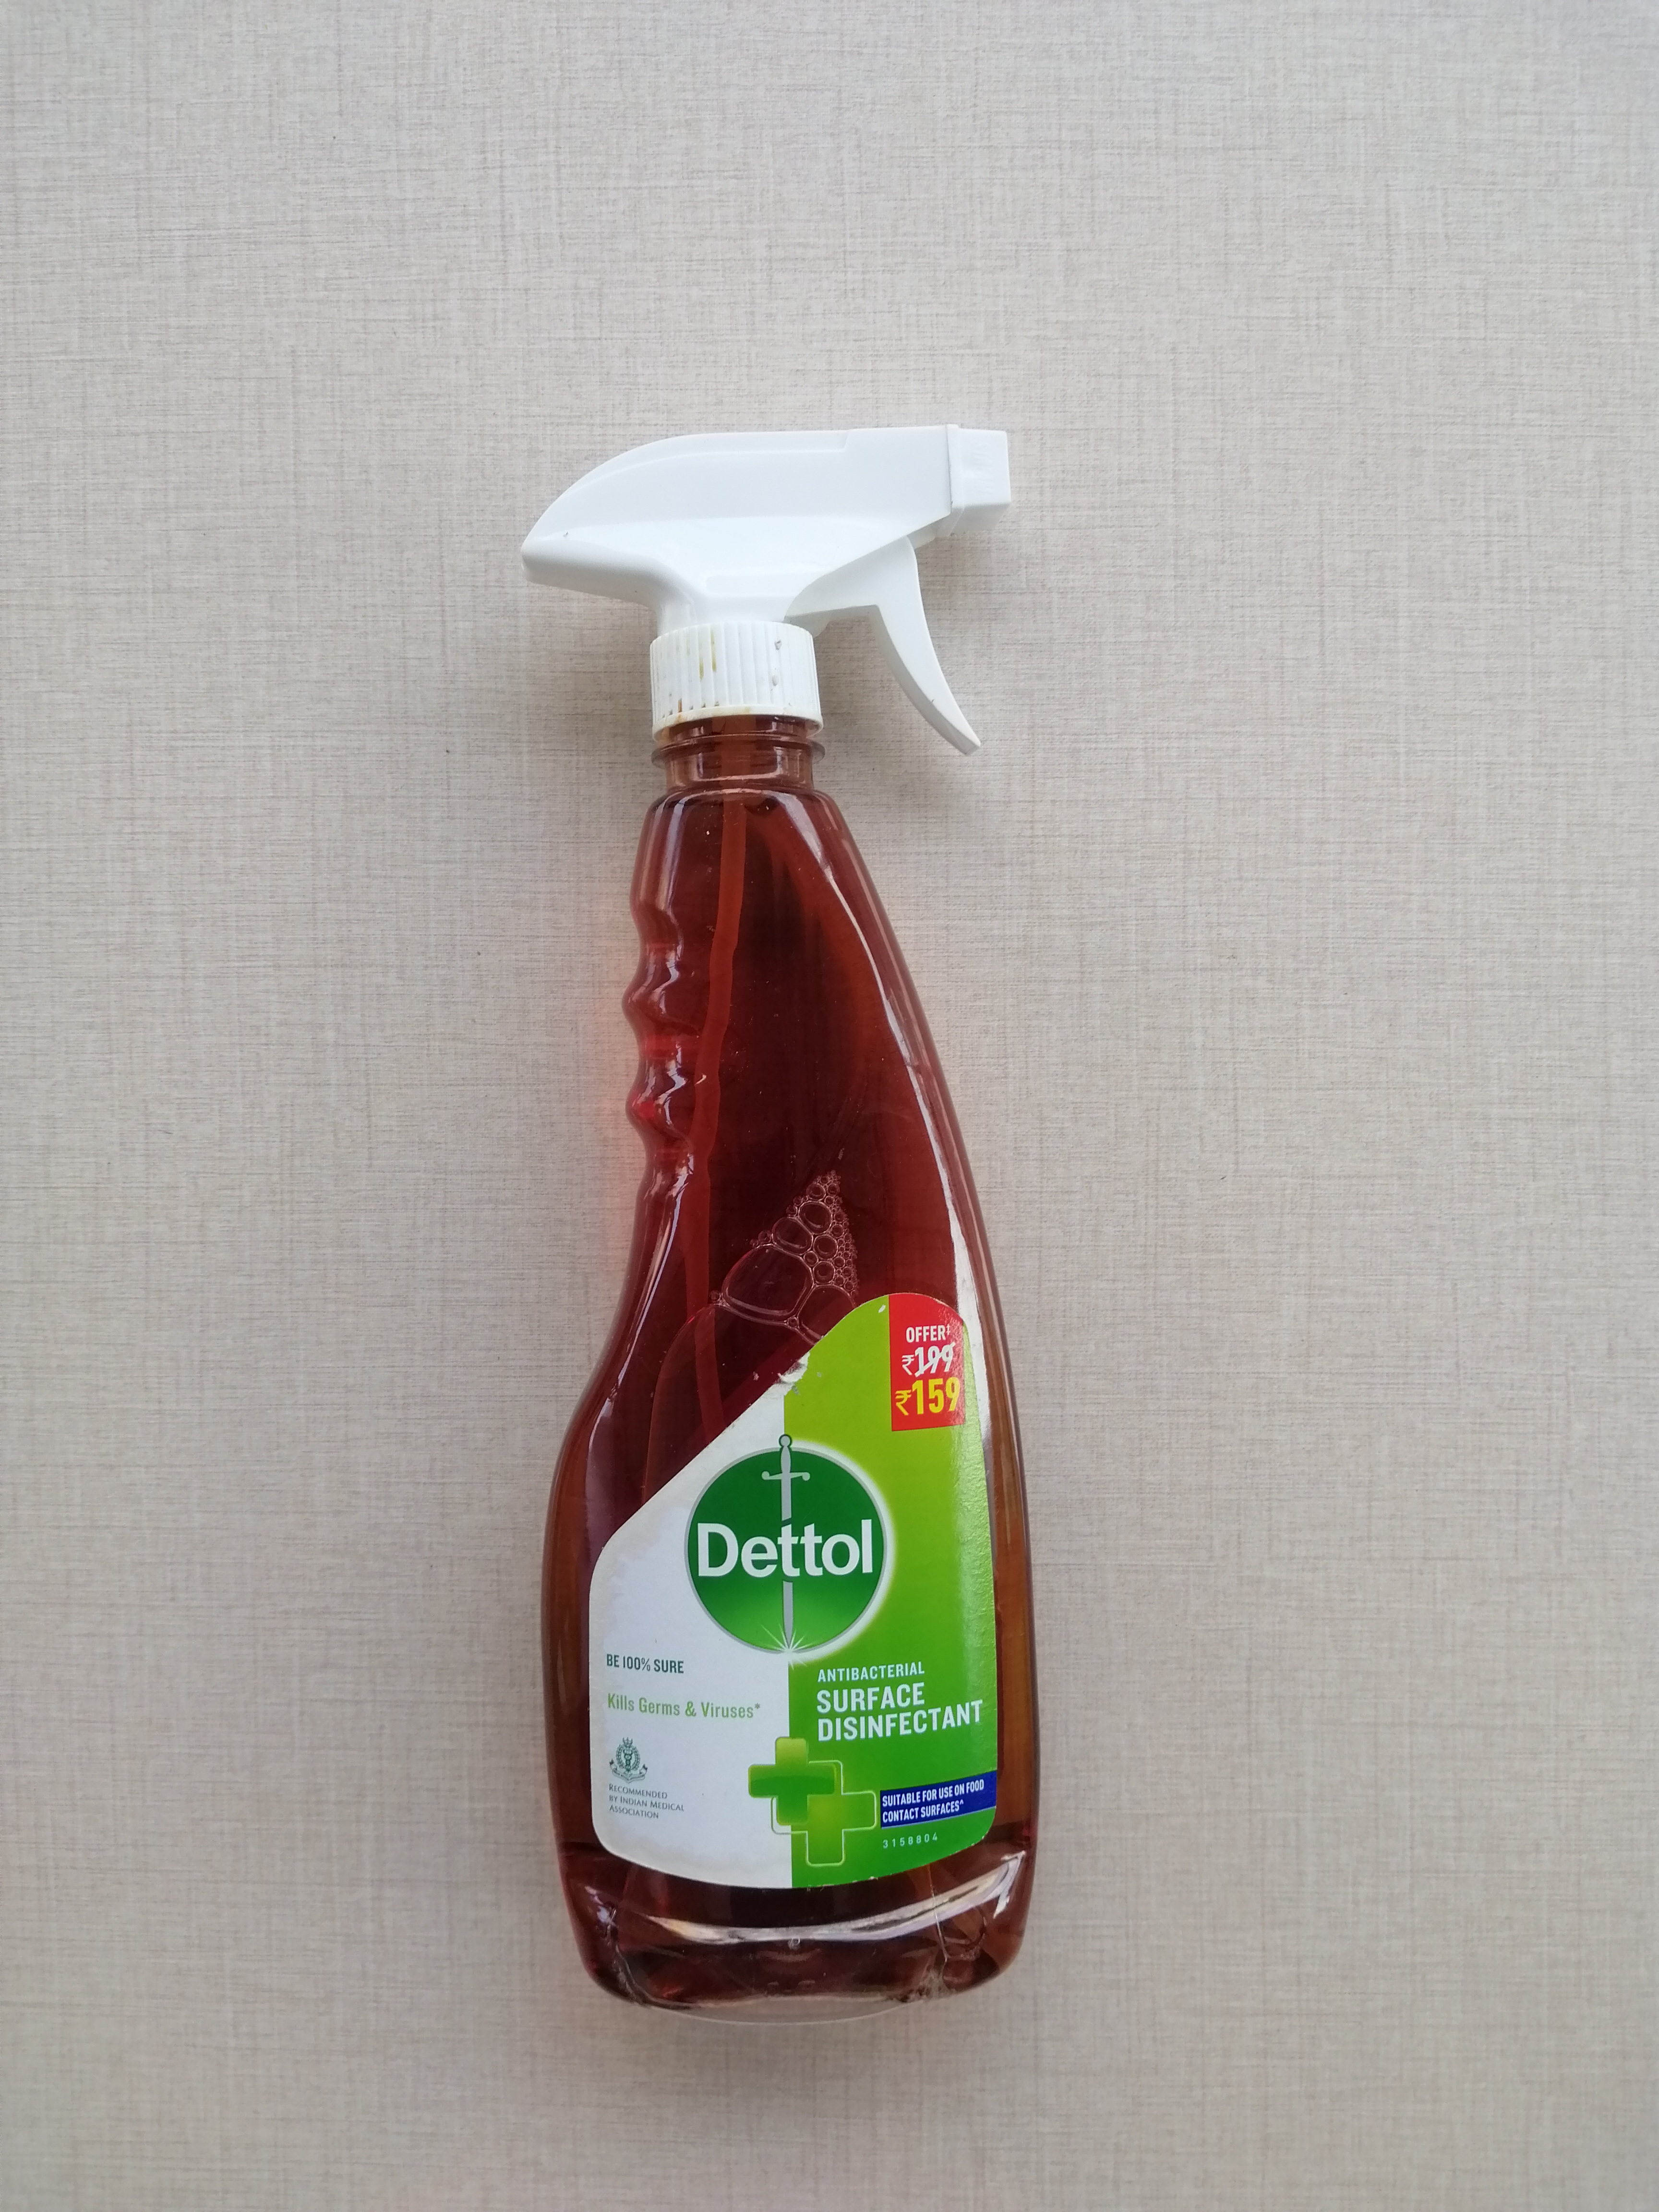dettol_500ml: (519, 428, 1047, 2029)
